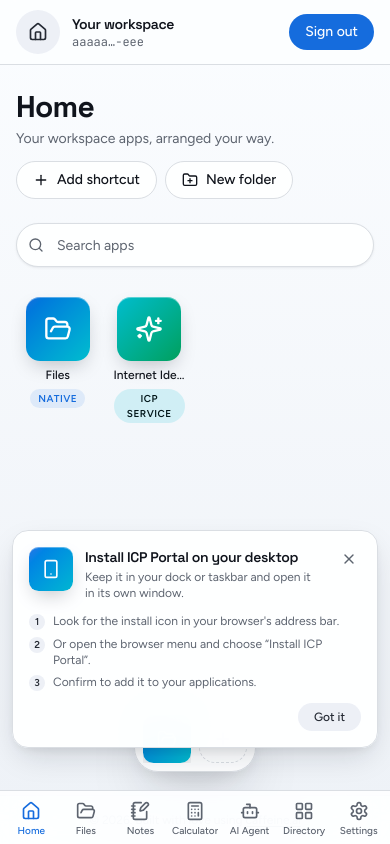
Test: Home layout refresh across pages › toggles the dock in Settings and reflects it on Home without a reload
The width and height of the screenshot is (390, 844).
Expected: the element with test id "home.page" is shown, x1=16 y1=89 x2=374 y2=605
Expected: the button with test id "home.dock_item.1" is shown, x1=143 y1=715 x2=191 y2=763
# Add Internet Identity to the dock from Settings.
What coordinates should you click on to do the following:
click the link with test id "nav.bottom_link.settings"
I would click on:
 (359, 819)
Its box is x1=340 y1=801 x2=378 y2=837.
(page scrolled)
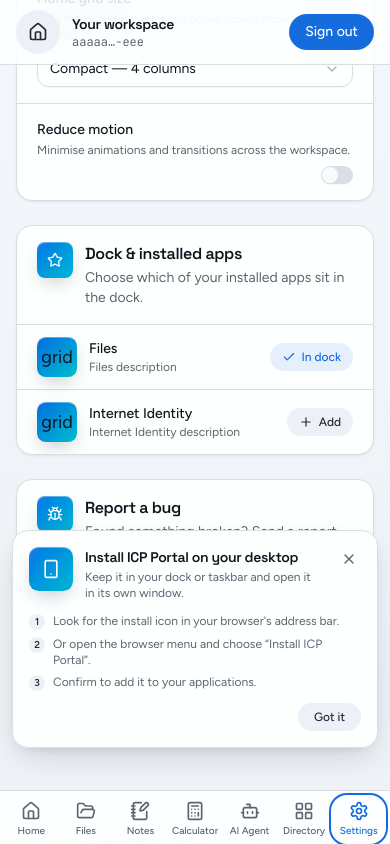
What coordinates should you click on to do the following:
click the button with test id "settings.dock.toggle.5"
I would click on:
 (320, 422)
Its box is x1=287 y1=408 x2=353 y2=436.
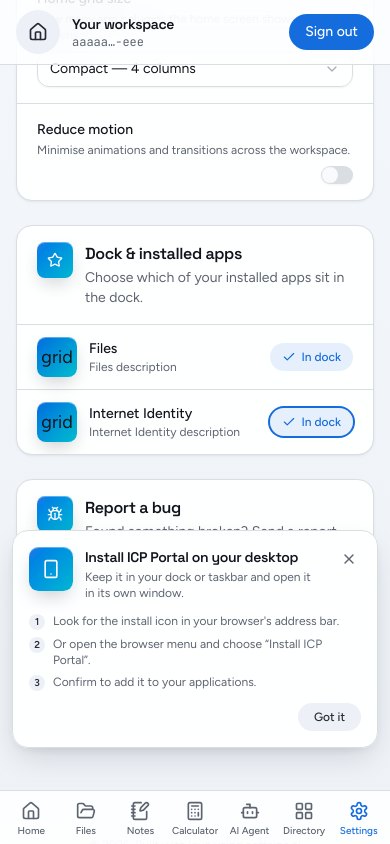
# Return Home: the dock now holds both apps without a reload.
What coordinates should you click on to do the following:
click the link with test id "nav.bottom_link.home"
I would click on:
 (31, 819)
Its box is x1=18 y1=801 x2=45 y2=837.
(page scrolled)
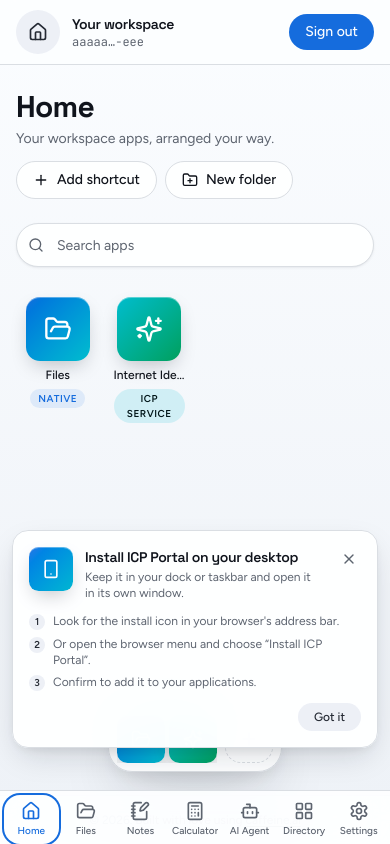
Expected: the button with test id "home.dock_item.2" is shown, x1=169 y1=715 x2=217 y2=763
